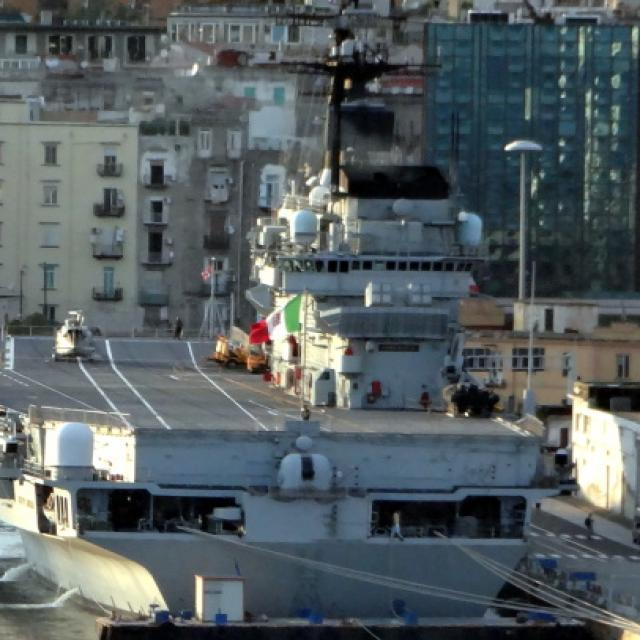Portanaves: (1, 1, 554, 618)
